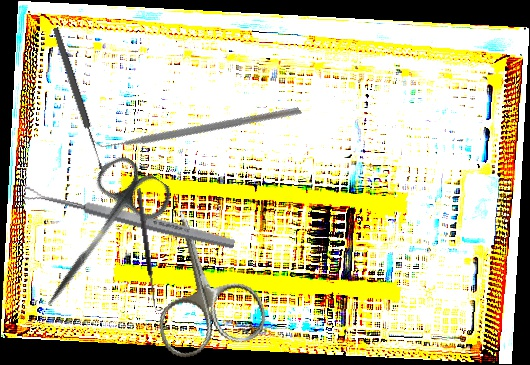Chopper: (87, 17, 303, 230)
Hook Surgical: (135, 187, 165, 312)
Iris Scissors: (20, 149, 178, 329), (130, 196, 272, 363)
Surgical Spoon: (22, 184, 237, 252), (50, 26, 106, 171)
